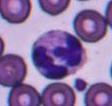N: (32, 29, 86, 79)
